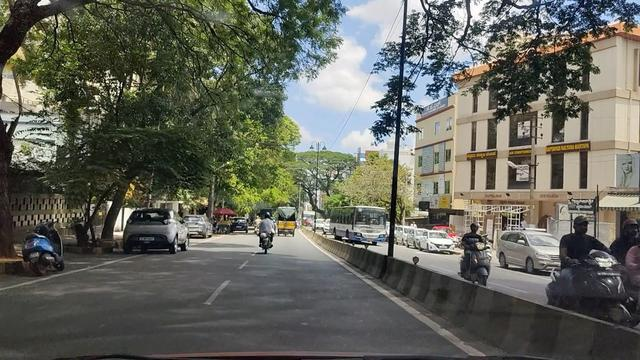LMV: (125, 208, 179, 248), (259, 208, 272, 256)
